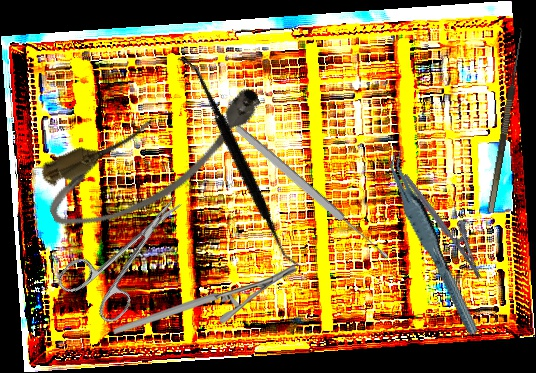Cannula: (31, 72, 281, 245)
Hook Surgical: (477, 26, 527, 213)
Iris Scissors: (53, 176, 207, 332)
Needle Holder: (113, 263, 298, 334), (401, 162, 498, 282)
Spatula Surgical: (116, 56, 360, 269)
Surgical Spoon: (232, 122, 392, 263)
Tissue Forceps: (384, 141, 480, 344)
